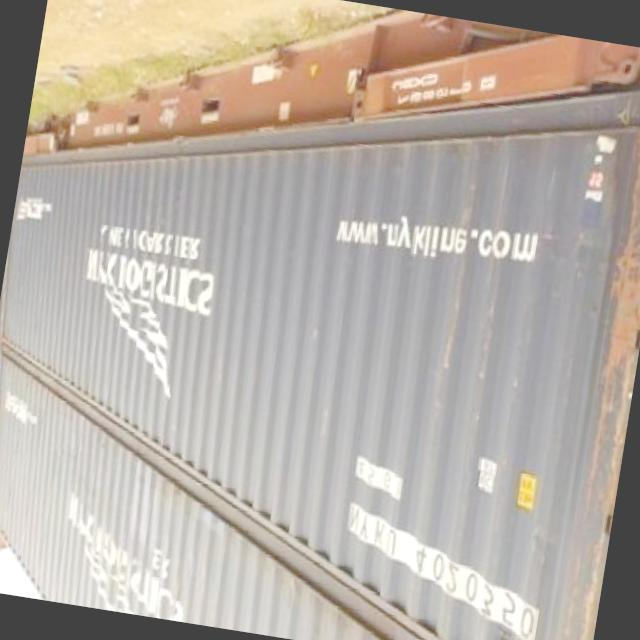rust: (575, 122, 640, 517), (554, 535, 610, 640)
